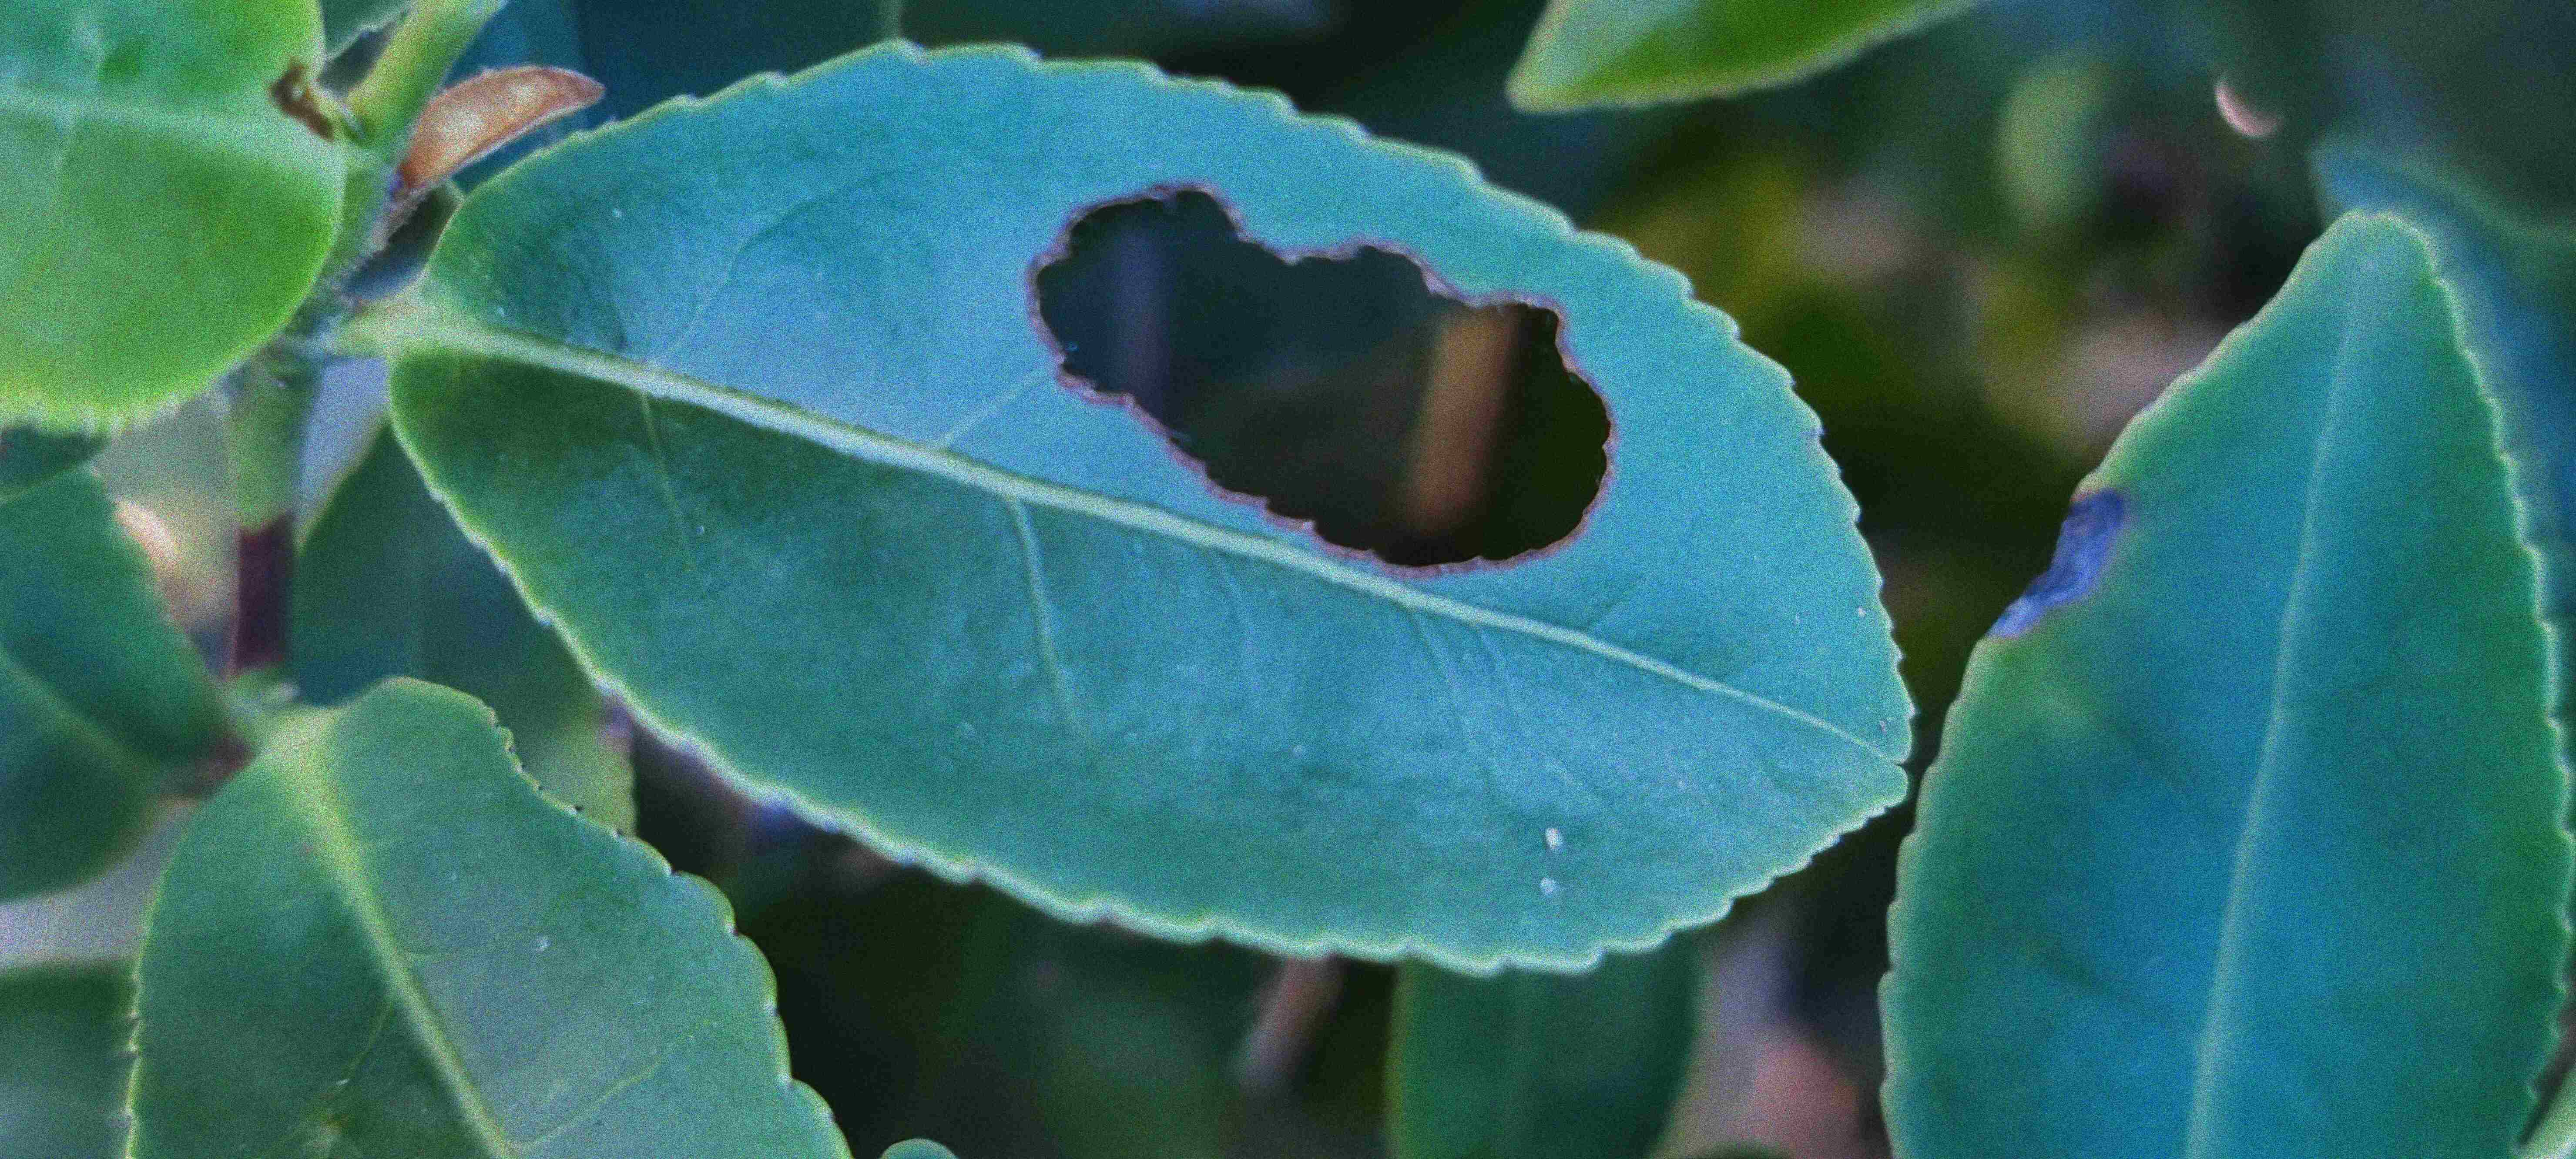chihuo_low: (375, 31, 1927, 982)
tanju_high: (1870, 202, 2574, 1159)
tanju_low: (2, 7, 353, 437)
